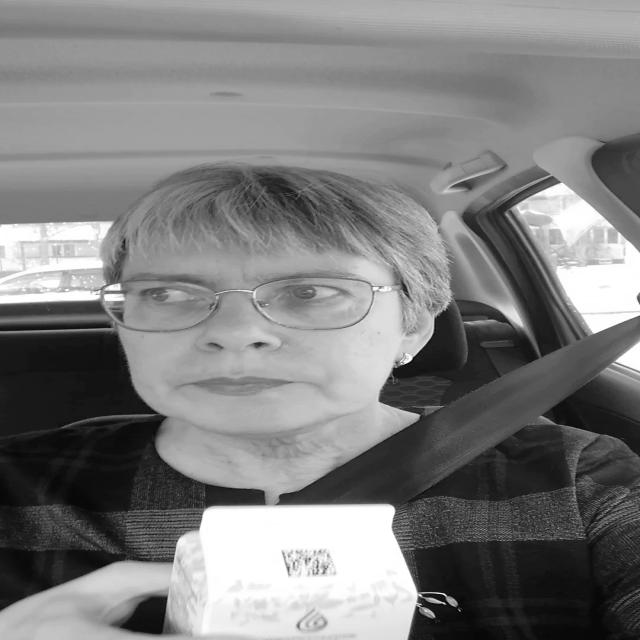Drinking: (151, 492, 433, 640)
Seatbelt: (289, 317, 640, 505)
